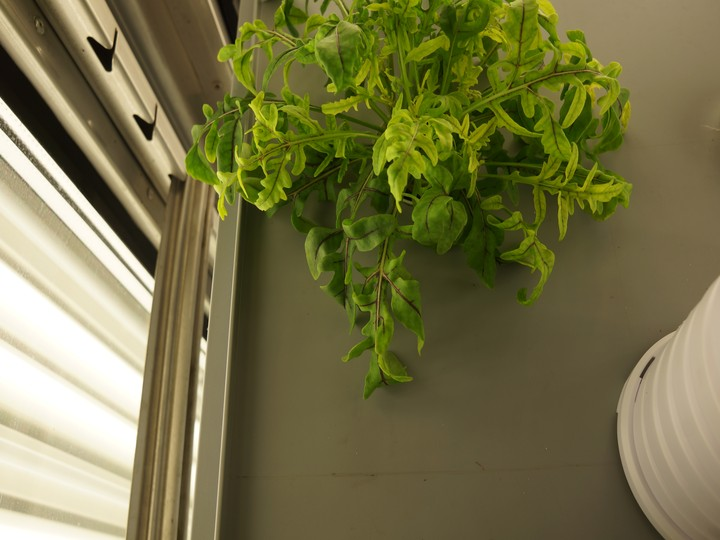roquette_sauvage_red_veined: (168, 3, 640, 389)
